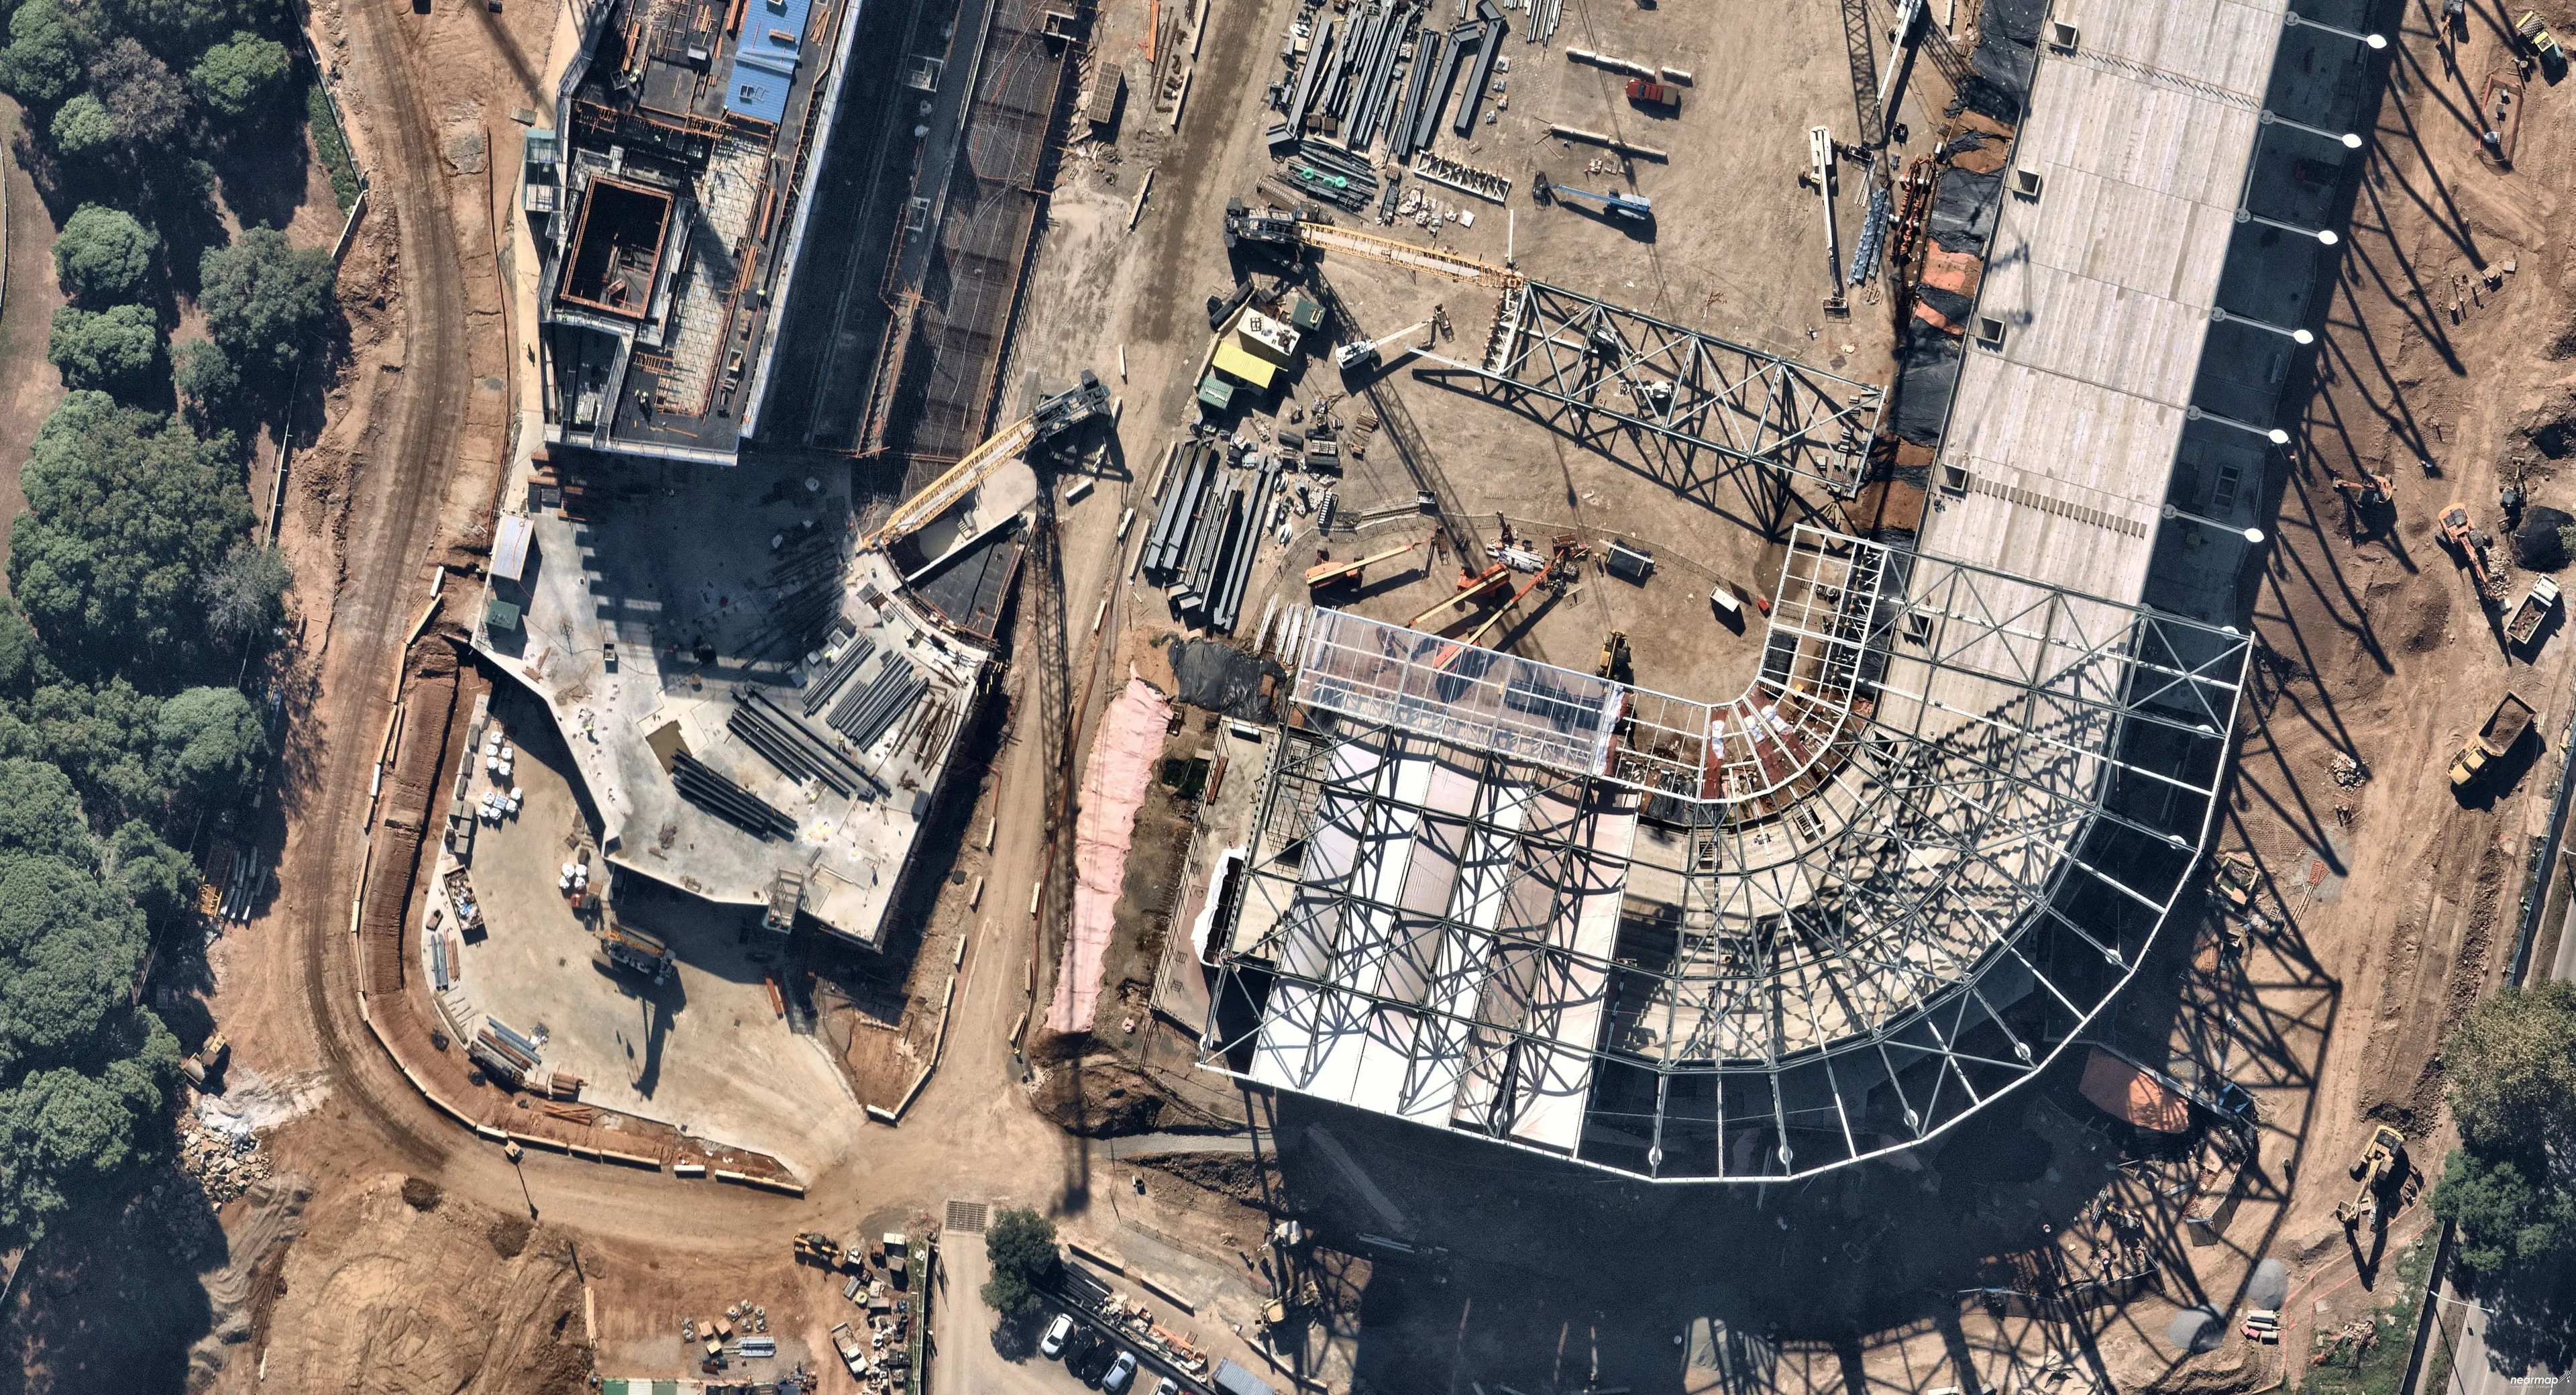crane: (862, 376, 1109, 563), (1238, 198, 1527, 311)
